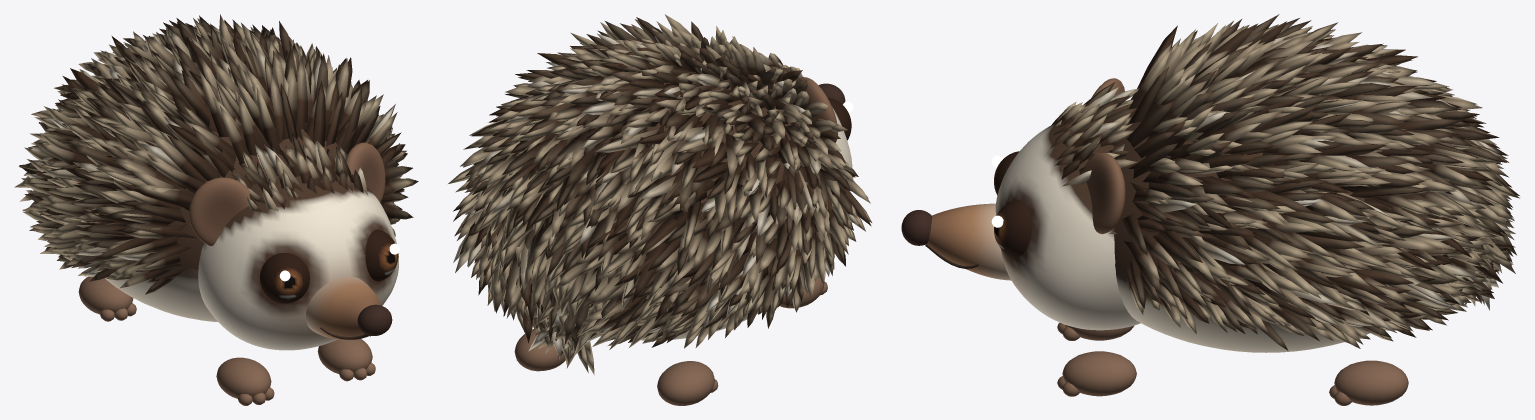
File: visitor.glb
3 renders of one model, left to right at view 1: azimuth 30°, elevation 25°; view 2: azimuth 150°, elevation 25°; view 3: azimuth 270°, elevation 25°, orthographic. The views are drawn at different scales.
Parts seen in each view (by area): view 1: BodySpines, Head, HeadSpines, Body, Snout, EarCup.R, Foot.FR.Mesh, Eye.R, Foot.FL.Mesh, Foot.BR.Mesh, EarCup.L, Eye.L (+1 smaller); view 2: BodySpines, Foot.BR.Mesh, Body, Foot.BL.Mesh, EarCup.R, HeadSpines, Foot.FR.Mesh, Eye.R, Head; view 3: BodySpines, Head, Body, HeadSpines, Snout, Foot.BL.Mesh, Foot.FL.Mesh, EarCup.L, Eye.L, NoseTip, Foot.FR.Mesh.
Boxes of the visible parts, <box> form: BodySpines: <box>14,14,418,294</box>; Head: <box>198,164,398,350</box>; HeadSpines: <box>231,133,367,212</box>; Body: <box>105,127,381,321</box>; Snout: <box>305,276,381,339</box>; EarCup.R: <box>189,177,251,246</box>; Foot.FR.Mesh: <box>216,357,274,405</box>; Eye.R: <box>260,253,309,303</box>; Foot.FL.Mesh: <box>317,339,375,381</box>; Foot.BR.Mesh: <box>78,276,136,321</box>; EarCup.L: <box>345,142,385,202</box>; Eye.L: <box>365,229,398,281</box>; BodySpines: <box>448,14,871,375</box>; Foot.BR.Mesh: <box>657,361,718,405</box>; Body: <box>552,62,794,340</box>; Foot.BL.Mesh: <box>514,329,565,371</box>; EarCup.R: <box>795,77,838,142</box>; HeadSpines: <box>739,44,802,89</box>; Foot.FR.Mesh: <box>780,276,827,308</box>; Eye.R: <box>828,97,851,140</box>; Head: <box>777,66,852,167</box>; BodySpines: <box>1122,14,1519,350</box>; Head: <box>995,123,1140,330</box>; Body: <box>1114,92,1434,352</box>; HeadSpines: <box>1050,82,1138,234</box>; Snout: <box>927,203,1011,280</box>; Foot.BL.Mesh: <box>1329,360,1408,405</box>; Foot.FL.Mesh: <box>1057,351,1136,396</box>; EarCup.L: <box>1085,153,1125,234</box>; Eye.L: <box>994,200,1031,257</box>; NoseTip: <box>901,210,931,245</box>; Foot.FR.Mesh: <box>1057,322,1133,340</box>.
Bounding box in the file's own units: 0.7395 × 0.5953 × 1.02.
